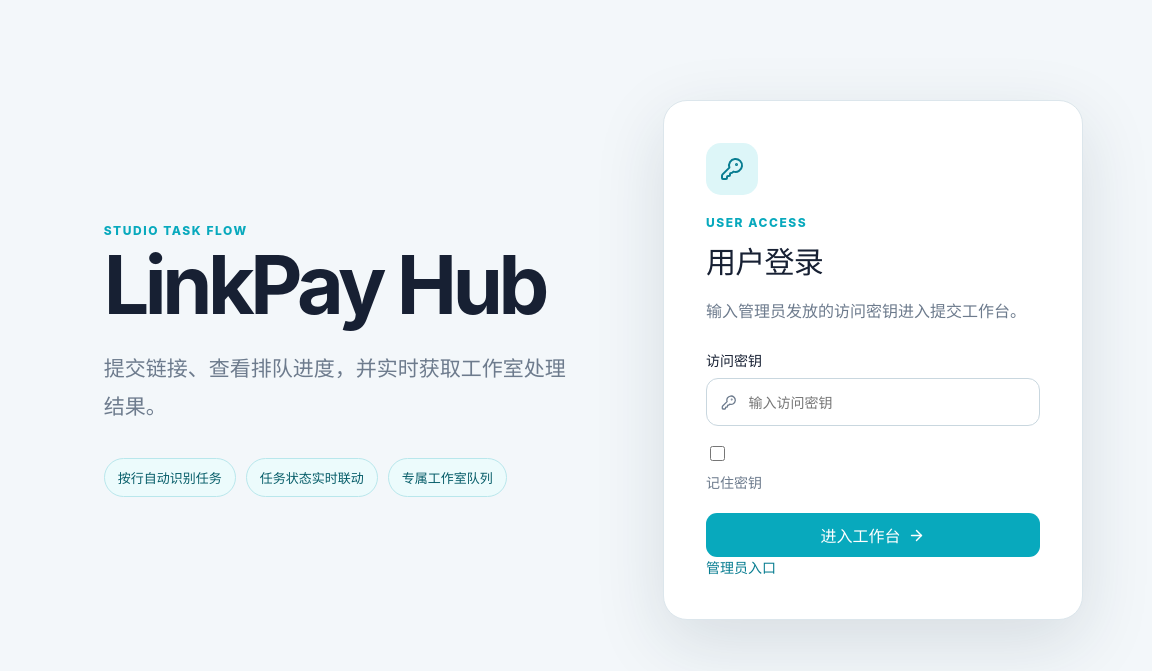
Test: user key login › logs in with one access key and enters the workbench
Check: the field labelled "账号" is not shown
Type "USR-ABCD-EFGH-JKMN-PQRS" into the field labelled "访问密钥" at {"x": 886, "y": 402}, box left=746, top=392, right=1025, bottom=412
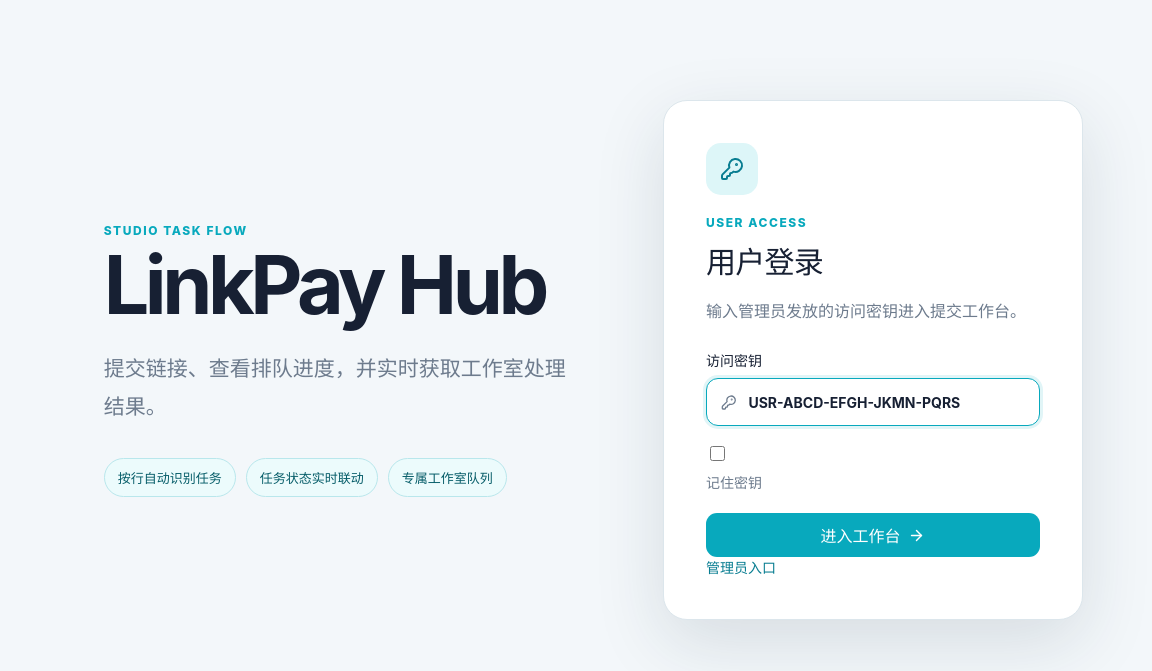
Click the button "进入工作台" at {"x": 873, "y": 535}, box left=706, top=513, right=1040, bottom=557
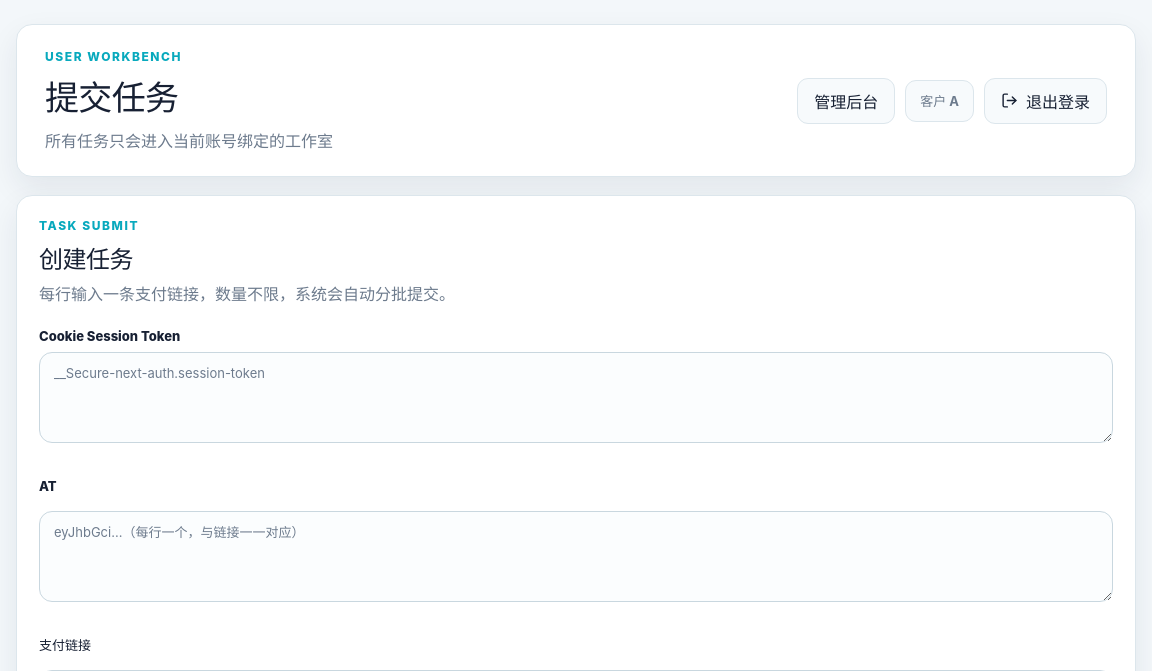
Check: the heading "提交任务" is shown, box left=45, top=77, right=178, bottom=118
Check: the text "客户 A" is shown, box left=905, top=80, right=974, bottom=122
